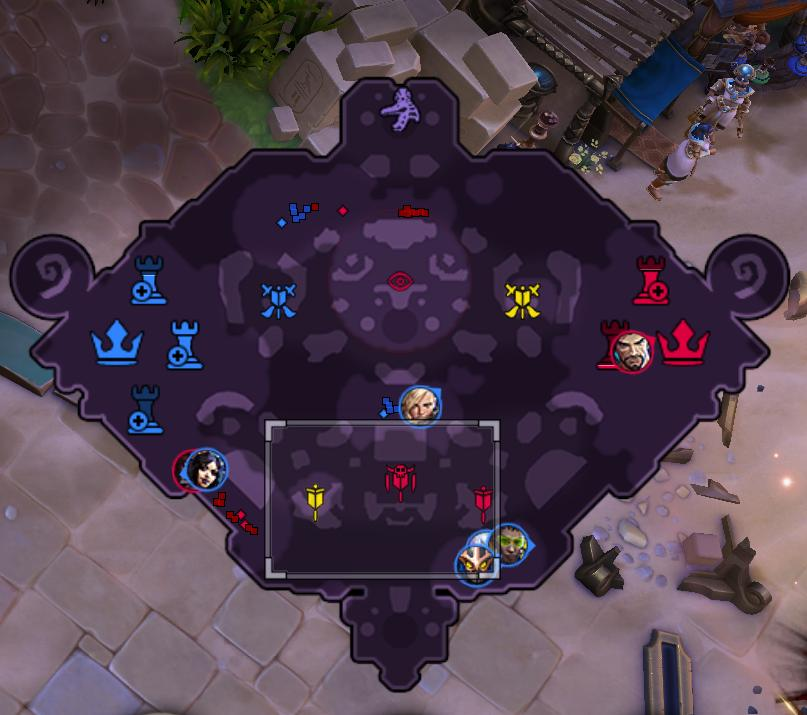blue nexus: (89, 317, 145, 366)
blue player: (454, 529, 498, 585), (183, 447, 228, 491), (489, 522, 532, 566), (398, 384, 442, 423)
blue tower: (165, 317, 204, 370), (129, 254, 168, 305), (126, 383, 164, 435), (790, 33, 806, 74)
red nexus: (657, 318, 711, 366)
red player: (167, 445, 209, 493), (611, 330, 653, 373)
red tower: (631, 254, 669, 306)
